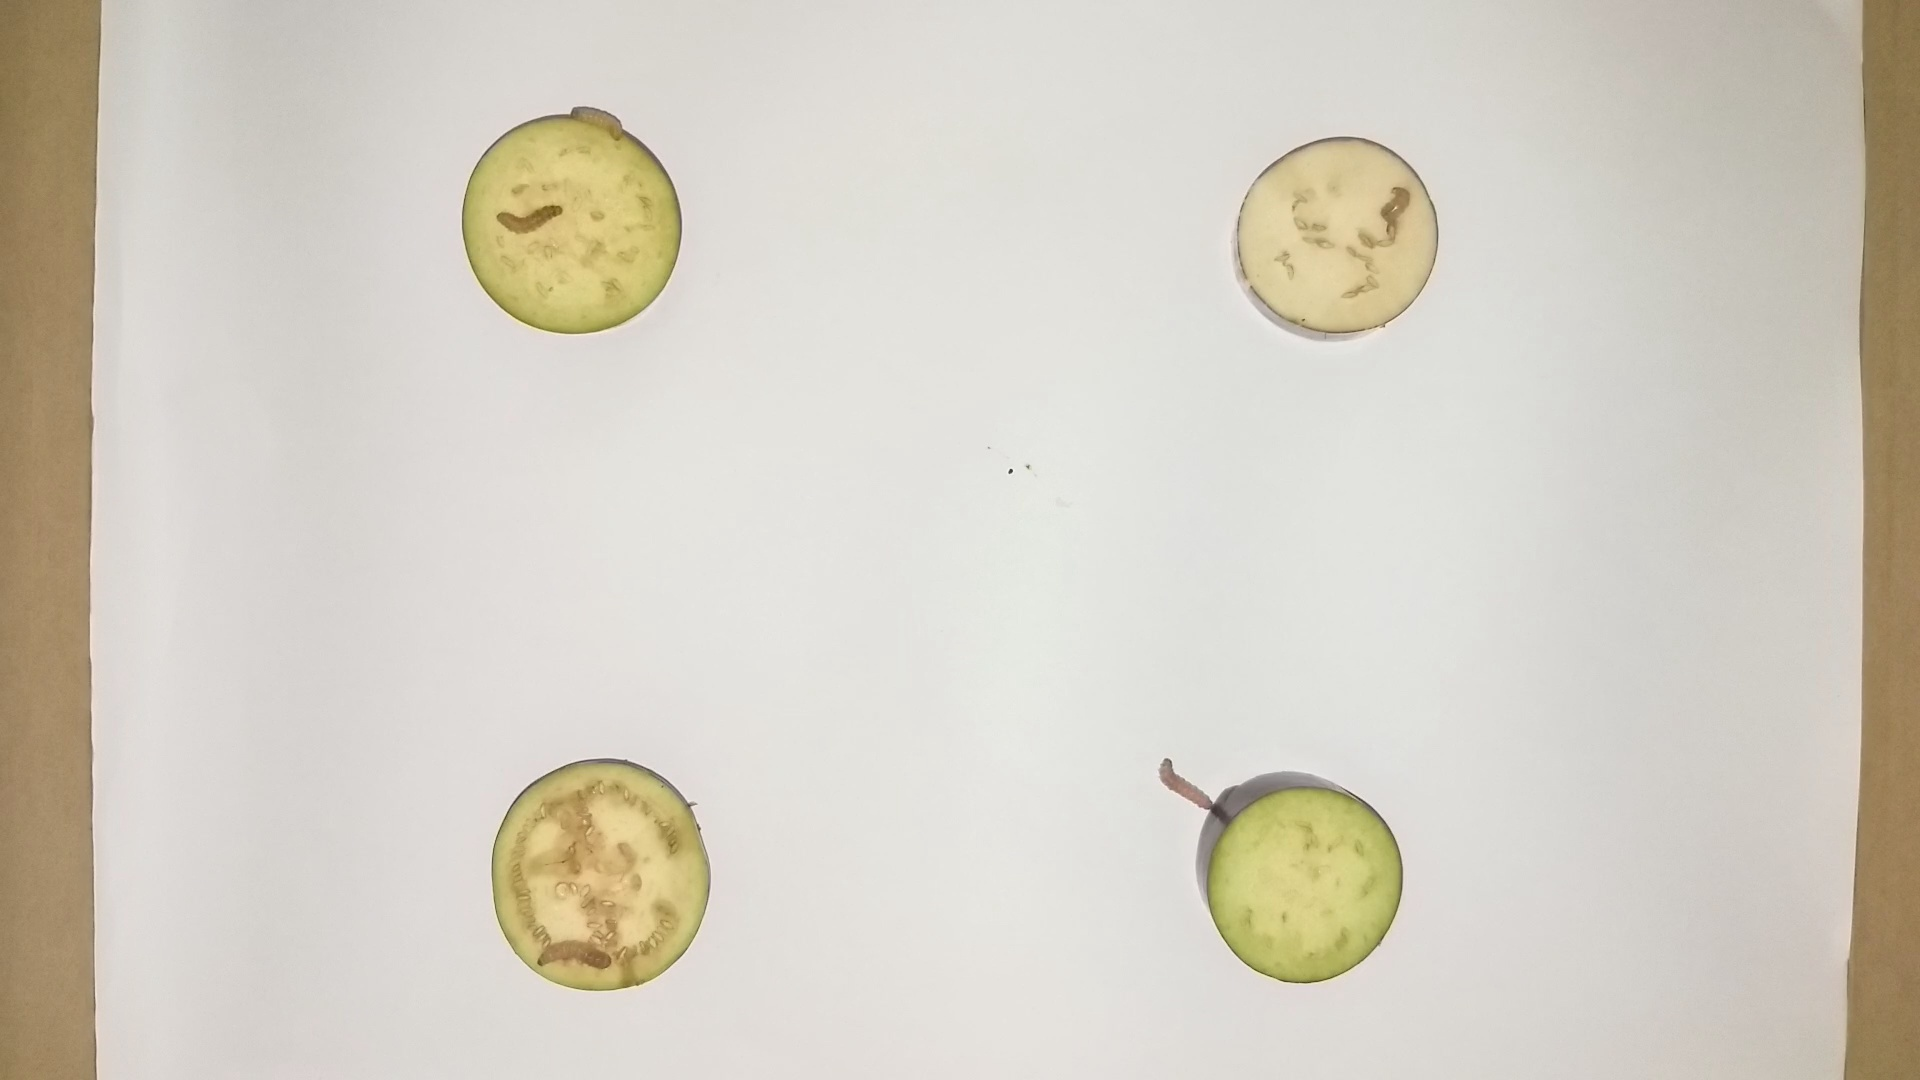efsb: (1151, 749, 1218, 815), (533, 934, 617, 975), (564, 102, 636, 142), (495, 200, 571, 235), (1378, 177, 1418, 225)
eggplant: (483, 752, 721, 996), (454, 109, 688, 340), (1187, 765, 1408, 992), (1226, 129, 1443, 345)
